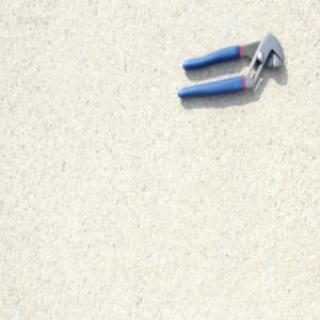Pliertrack_idkeyframe: (175, 33, 284, 100)
